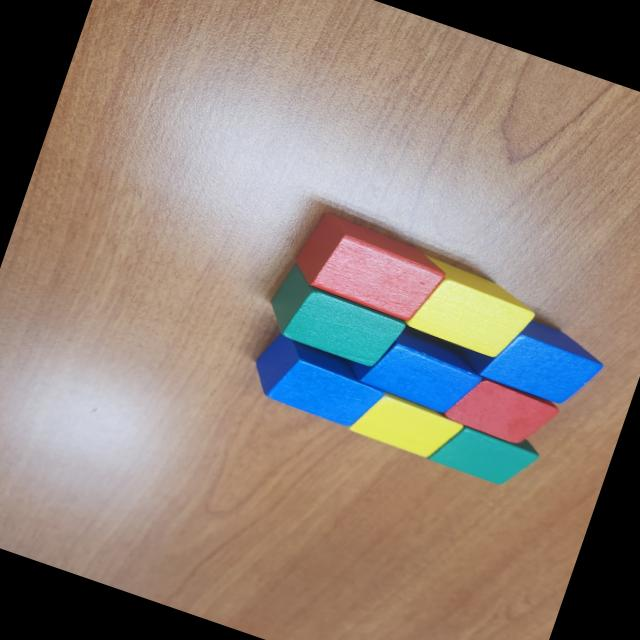blue: (452, 301, 610, 413), (245, 328, 392, 435), (341, 317, 488, 422)
green: (260, 260, 413, 374), (425, 409, 543, 494)
red: (286, 206, 452, 328), (437, 368, 562, 457)
yellow: (398, 254, 541, 366), (342, 382, 465, 466)
